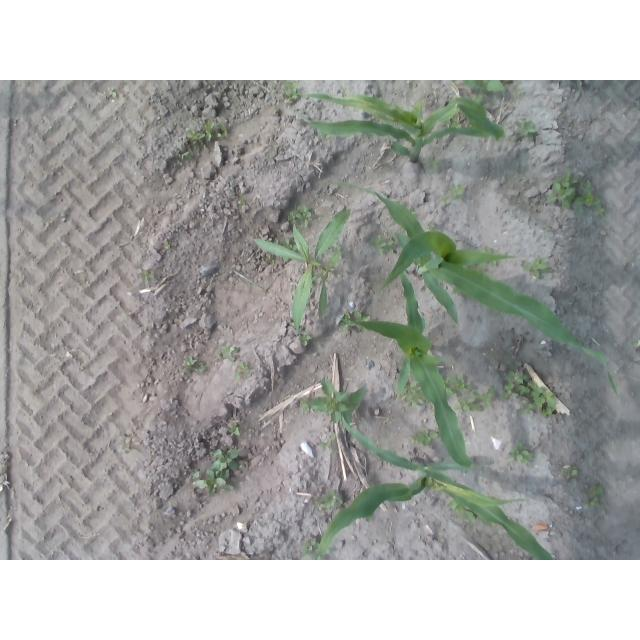Maize: (335, 182, 622, 402), (310, 416, 556, 560), (345, 272, 472, 465), (300, 87, 505, 172)
Weeds: (254, 206, 352, 330), (496, 357, 560, 420), (303, 376, 369, 425), (192, 447, 244, 501), (547, 174, 604, 222), (523, 253, 557, 283), (186, 123, 222, 148), (367, 233, 399, 259), (337, 307, 369, 331), (516, 116, 540, 144), (508, 444, 533, 469), (171, 151, 193, 178), (236, 353, 257, 379), (401, 383, 423, 406), (447, 377, 475, 394), (455, 397, 481, 415), (290, 206, 314, 225), (588, 483, 606, 508), (480, 385, 500, 407), (287, 85, 306, 108), (418, 425, 435, 450), (425, 155, 444, 177), (118, 439, 142, 456), (188, 356, 208, 376), (561, 461, 580, 480), (322, 491, 341, 510), (220, 346, 240, 362), (450, 183, 466, 202), (295, 332, 311, 349), (323, 433, 336, 452), (141, 268, 155, 285), (232, 425, 245, 439), (163, 240, 173, 254)
